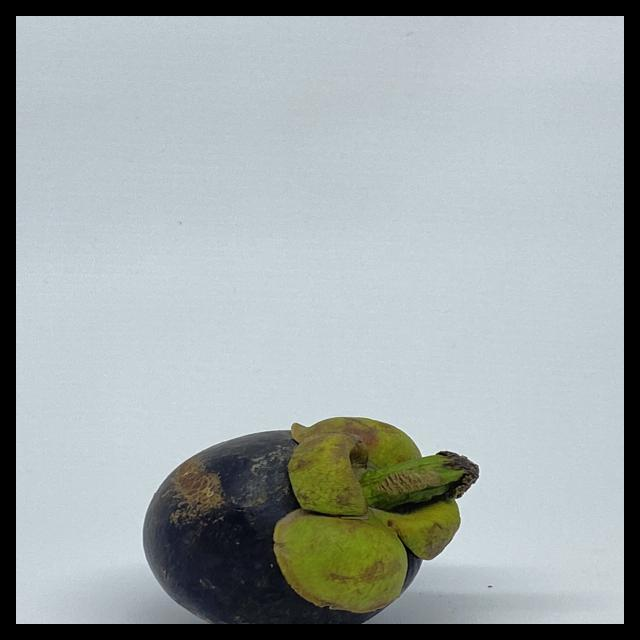mangosteen: (103, 381, 486, 624)
